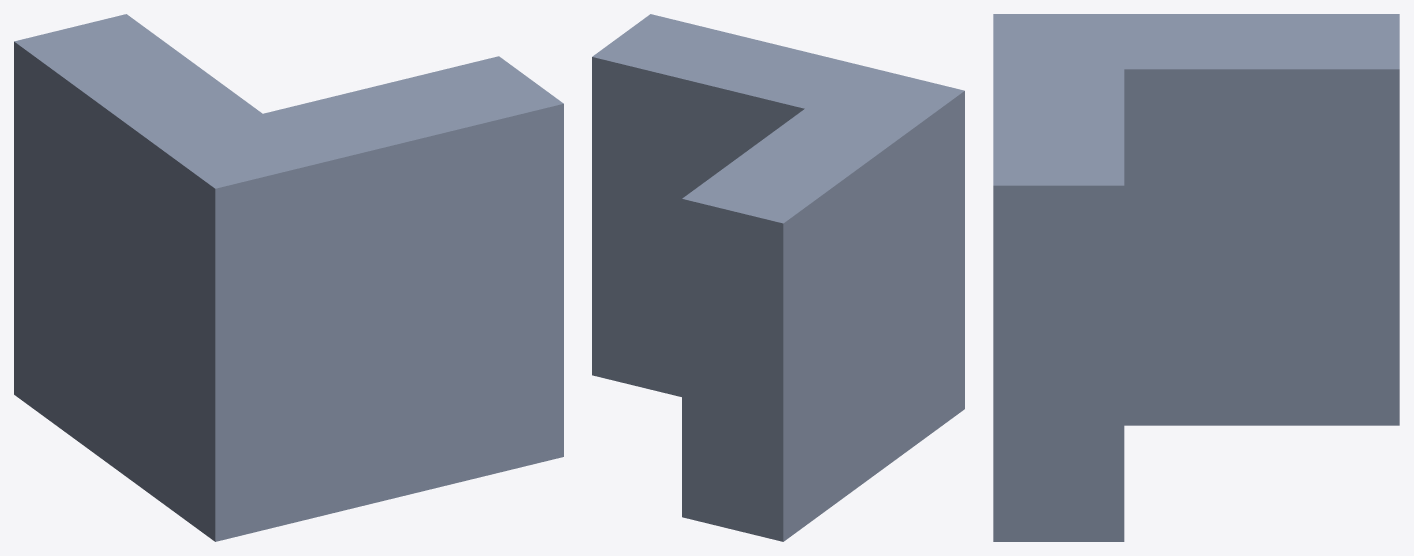
Rendered from Simple-Corner-Wall.fbx.
3 renders of one model, left to right at view 1: azimuth 30°, elevation 25°; view 2: azimuth 150°, elevation 25°; view 3: azimuth 270°, elevation 25°, orthographic. The views are drawn at different scales.
Parts seen in each view (by area): view 1: Cube.003; view 2: Cube.003; view 3: Cube.003.
Boxes of the visible parts, bbox=[...] form: Cube.003: bbox=[14, 14, 563, 541]; Cube.003: bbox=[592, 14, 964, 541]; Cube.003: bbox=[993, 14, 1399, 541].
Bounding box in the file's own units: 207 × 200 × 207.
